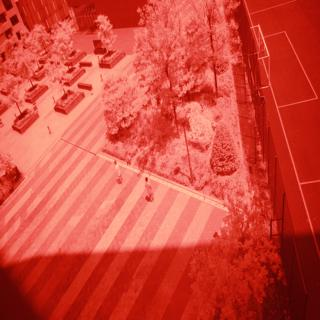person: (140, 171, 156, 207), (110, 153, 125, 191)
